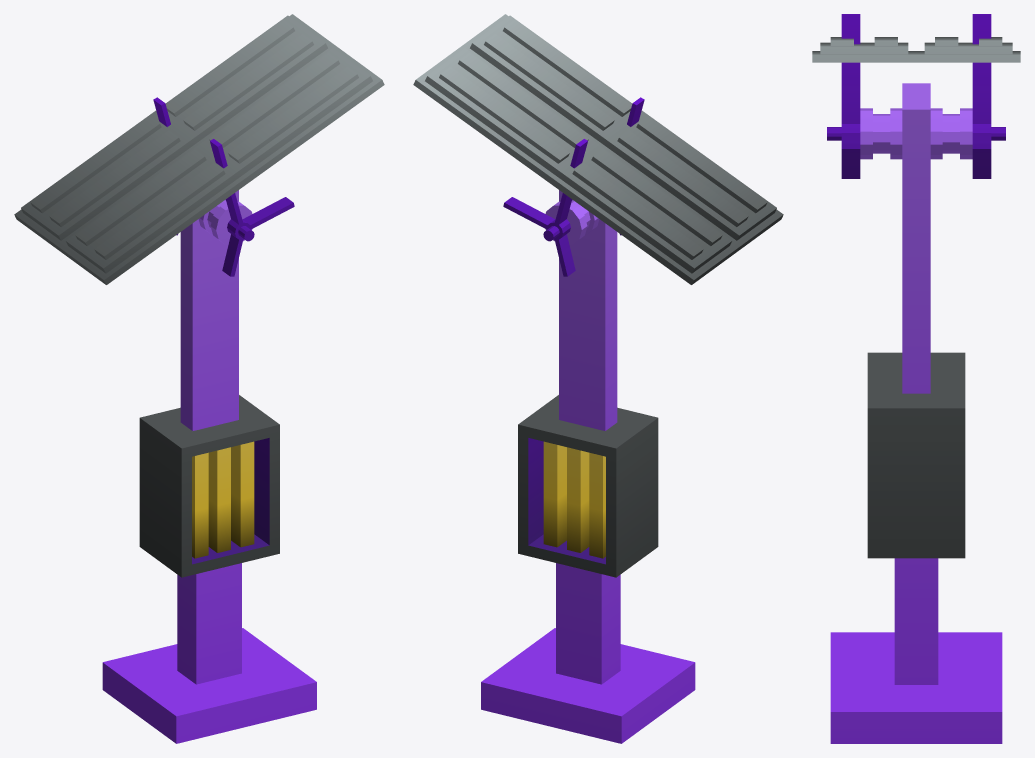
The model's file is generador_001.fbx.
3 renders of one model, left to right at view 1: azimuth 30°, elevation 25°; view 2: azimuth 150°, elevation 25°; view 3: azimuth 270°, elevation 25°, orthographic. The views are drawn at different scales.
Visible parts, largest first — view 1: generador.001; view 2: generador.001; view 3: generador.001.
Boxes of the visible parts, x1,y1,x2,y2 form: generador.001: (14,14,384,743); generador.001: (413,14,783,743); generador.001: (812,14,1020,743).
Size of the model in its own units: 77.89 by 166 by 43.16.
